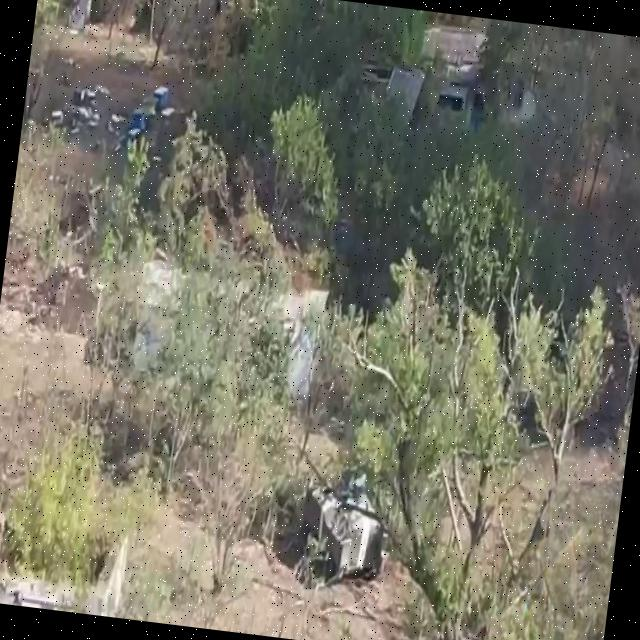APC: (294, 463, 396, 588)
